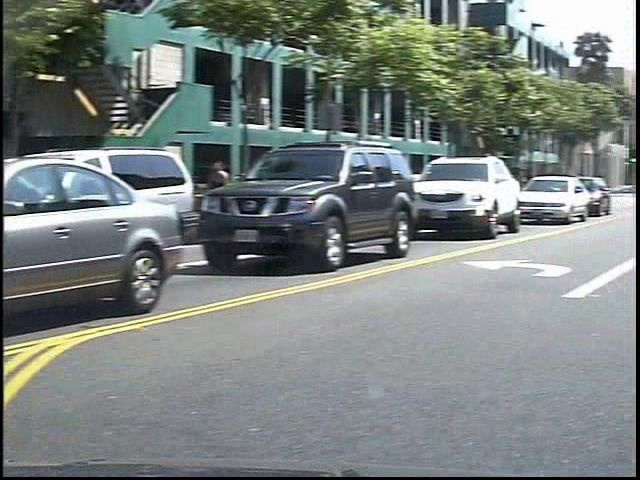person: (218, 154, 248, 232)
